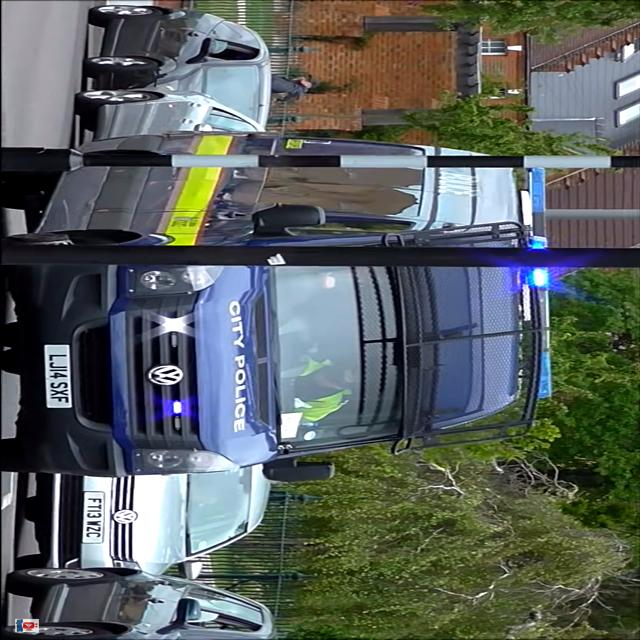emergency-vehicles: (0, 126, 575, 489)
